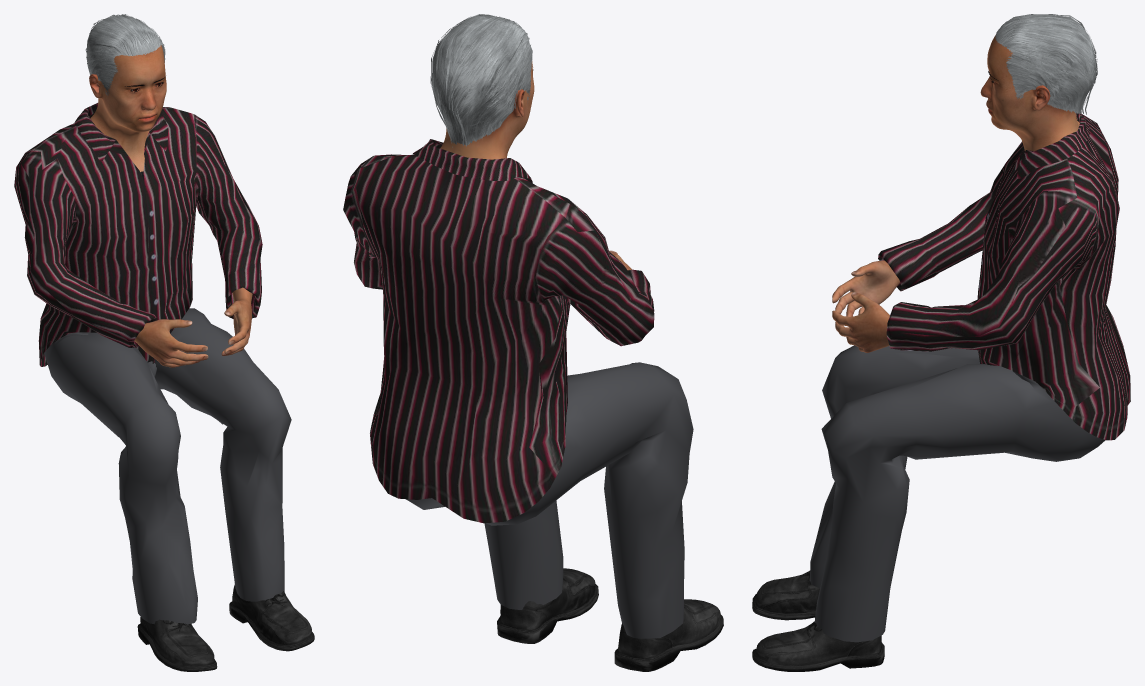
File: rowan.glb
3 renders of one model, left to right at view 1: azimuth 30°, elevation 25°; view 2: azimuth 150°, elevation 25°; view 3: azimuth 270°, elevation 25°, orthographic. The views are drawn at different scales.
Parts seen in each view (by area): view 1: male_casualsuit03, Rowan | anatomical body, shoes04, short04; view 2: male_casualsuit03, short04, shoes04, Rowan | anatomical body; view 3: male_casualsuit03, Rowan | anatomical body, short04, shoes04.
Part boxes in pixels (<box>): male_casualsuit03: <box>14,103,291,624</box>; Rowan | anatomical body: <box>89,45,252,367</box>; shoes04: <box>137,584,314,671</box>; short04: <box>85,14,165,95</box>; male_casualsuit03: <box>343,139,693,638</box>; short04: <box>430,14,532,147</box>; shoes04: <box>497,568,723,671</box>; Rowan | anatomical body: <box>440,61,631,270</box>; male_casualsuit03: <box>810,112,1130,642</box>; Rowan | anatomical body: <box>832,35,1079,352</box>; short04: <box>995,14,1097,114</box>; shoes04: <box>752,570,884,671</box>.
Bounding box in the file's own units: 0.5862 × 1.36 × 0.7551.
Materials: 10 (10 with a texture image).
